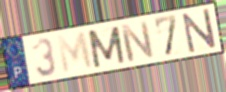3: (30, 36, 58, 80)
7: (153, 13, 179, 58)
M: (85, 25, 127, 70), (55, 30, 95, 76)
N: (180, 6, 218, 55), (118, 19, 157, 64)
